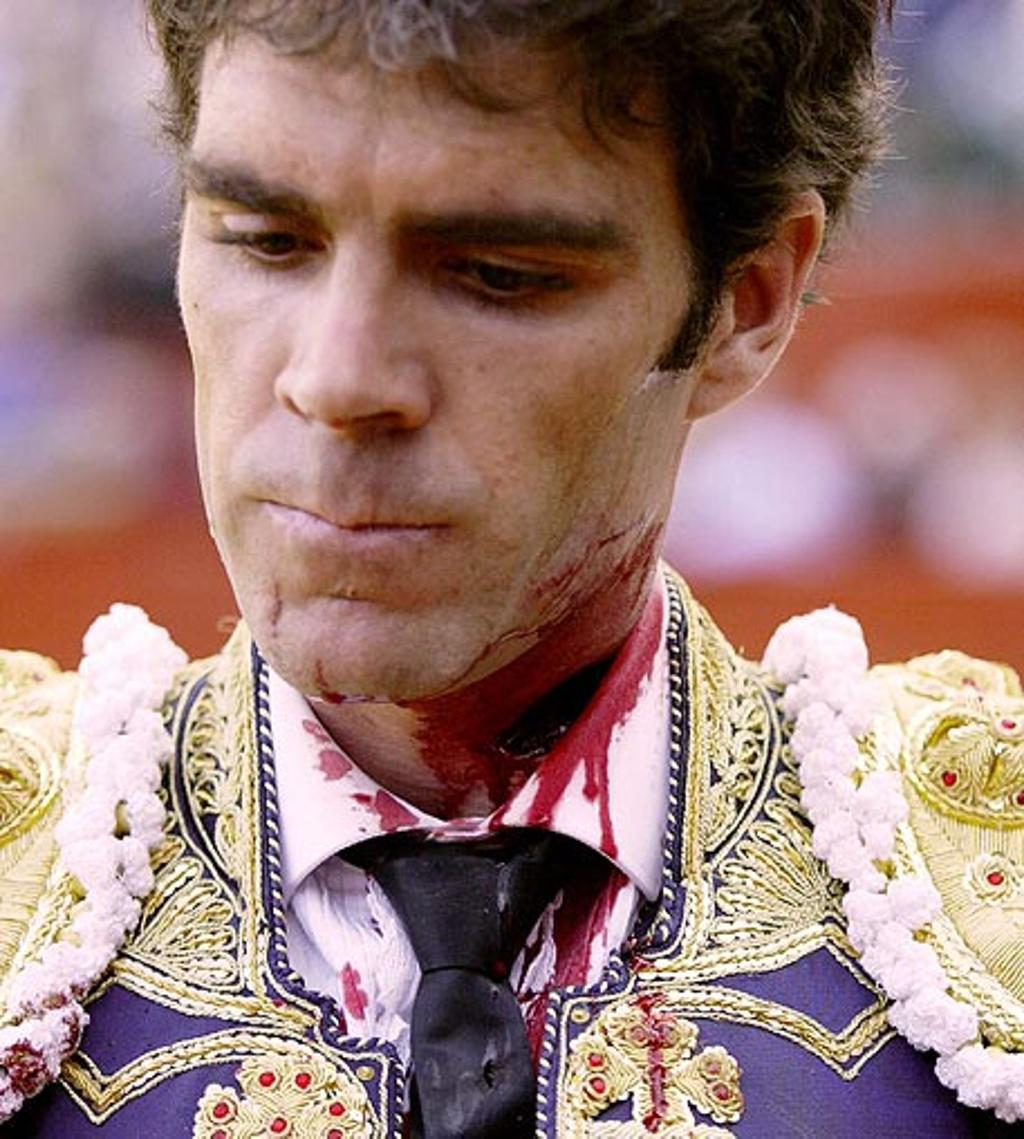face: (172, 12, 712, 696)
